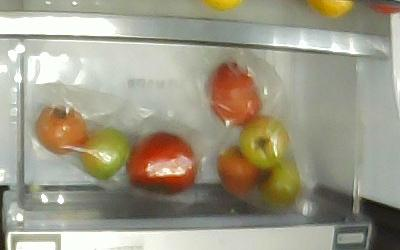tomato_vinyl: (127, 133, 195, 195), (205, 61, 261, 125), (80, 129, 131, 182), (239, 116, 290, 169), (34, 107, 87, 155), (215, 144, 263, 194), (257, 160, 300, 208)
